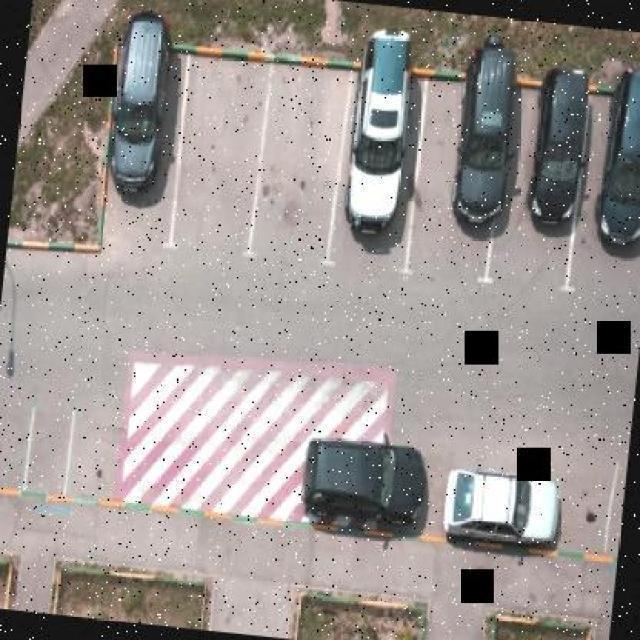Car: (344, 36, 430, 250), (107, 25, 181, 204), (434, 55, 511, 223), (450, 456, 565, 558), (306, 440, 426, 522), (592, 89, 640, 249), (529, 82, 589, 205)
Vacant: (269, 66, 338, 239), (188, 62, 261, 218), (77, 412, 120, 490), (0, 412, 15, 478)
